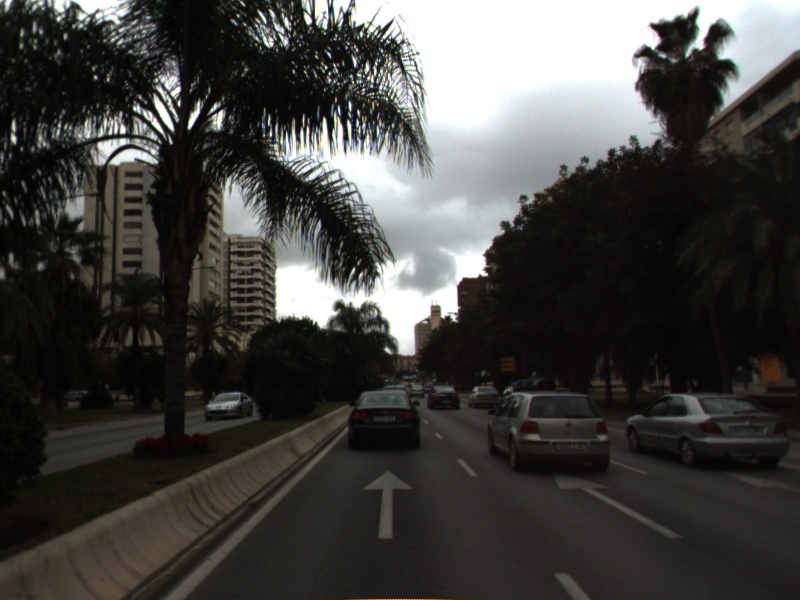STRAIGHT: (551, 468, 687, 541), (359, 467, 415, 541), (720, 468, 800, 498)
